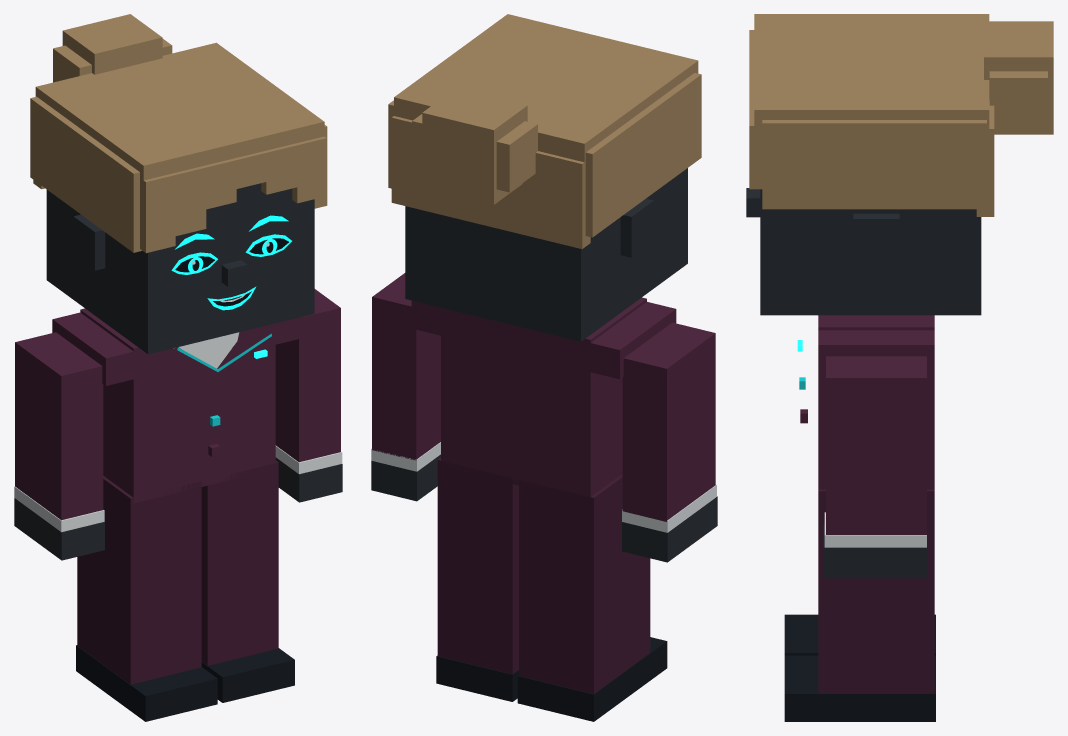
File: agent_male_base_bun.glb
3 views of the same model, side by side, from view 1: azimuth 30°, elevation 25°; view 2: azimuth 150°, elevation 25°; view 3: azimuth 270°, elevation 25° (orthographic). The views are drawn at different scales.
Visible parts, largest first — view 1: char_hair_visual, char_torso_visual, char_head_visual, char_leg_negx_visual, char_arm_negx_visual, char_leg_posx_visual, char_arm_posx_visual, char_hand_negx_visual, char_hand_posx_visual, char_eye_posx_visual, char_eye_negx_visual; view 2: char_hair_visual, char_torso_visual, char_head_visual, char_leg_negx_visual, char_arm_negx_visual, char_leg_posx_visual, char_arm_posx_visual, char_hand_negx_visual, char_hand_posx_visual; view 3: char_hair_visual, char_head_visual, char_arm_posx_visual, char_leg_posx_visual, char_torso_visual, char_hand_posx_visual, char_leg_negx_visual.
Part boxes in pixels (bbox=[...]): char_hair_visual: bbox=[30, 14, 327, 253]; char_torso_visual: bbox=[52, 308, 303, 574]; char_head_visual: bbox=[46, 183, 314, 354]; char_leg_negx_visual: bbox=[76, 551, 217, 721]; char_arm_negx_visual: bbox=[14, 332, 104, 532]; char_leg_posx_visual: bbox=[201, 534, 294, 702]; char_arm_posx_visual: bbox=[275, 289, 342, 474]; char_hand_negx_visual: bbox=[14, 498, 104, 560]; char_hand_posx_visual: bbox=[275, 457, 342, 502]; char_eye_posx_visual: bbox=[245, 234, 291, 256]; char_eye_negx_visual: bbox=[171, 252, 217, 274]; char_hair_visual: bbox=[388, 14, 701, 248]; char_torso_visual: bbox=[411, 297, 676, 572]; char_head_visual: bbox=[405, 168, 687, 341]; char_leg_negx_visual: bbox=[517, 552, 667, 721]; char_arm_negx_visual: bbox=[622, 322, 716, 532]; char_leg_posx_visual: bbox=[436, 535, 518, 701]; char_arm_posx_visual: bbox=[371, 273, 440, 471]; char_hand_negx_visual: bbox=[622, 496, 717, 562]; char_hand_posx_visual: bbox=[371, 454, 440, 501]; char_hair_visual: bbox=[749, 14, 1053, 216]; char_head_visual: bbox=[746, 188, 981, 315]; char_arm_posx_visual: bbox=[824, 356, 926, 547]; char_leg_posx_visual: bbox=[784, 568, 935, 721]; char_torso_visual: bbox=[799, 315, 934, 568]; char_hand_posx_visual: bbox=[823, 524, 926, 578]; char_leg_negx_visual: bbox=[784, 614, 935, 655].
Bounding box in the file's own units: 0.91 × 1.83 × 0.793.
